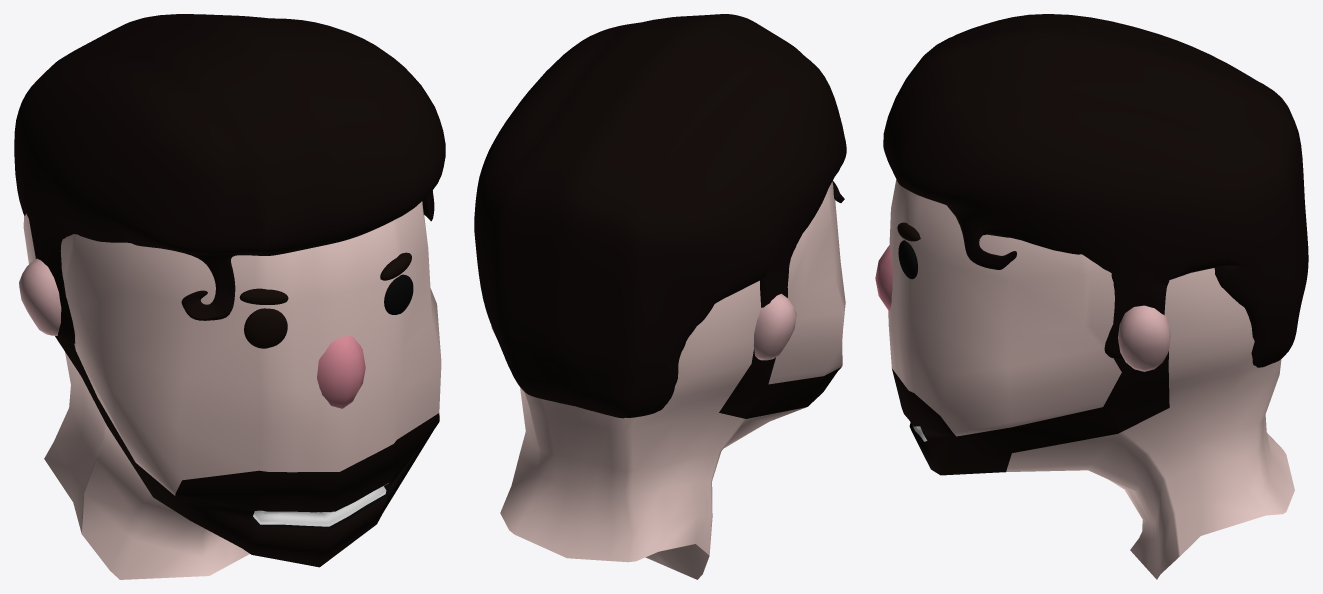
The model's file is TimsHeadGoodMerged.fbx.
3 renders of one model, left to right at view 1: azimuth 30°, elevation 25°; view 2: azimuth 150°, elevation 25°; view 3: azimuth 270°, elevation 25°, orthographic. The views are drawn at different scales.
Visible parts, largest first — view 1: EyeLeft_001; view 2: EyeLeft_001; view 3: EyeLeft_001.
Boxes of the visible parts, <box> form: EyeLeft_001: <box>14,14,445,579</box>; EyeLeft_001: <box>474,14,846,579</box>; EyeLeft_001: <box>875,14,1308,579</box>.
Bounding box in the file's own units: 2.18 × 3.35 × 2.55.
